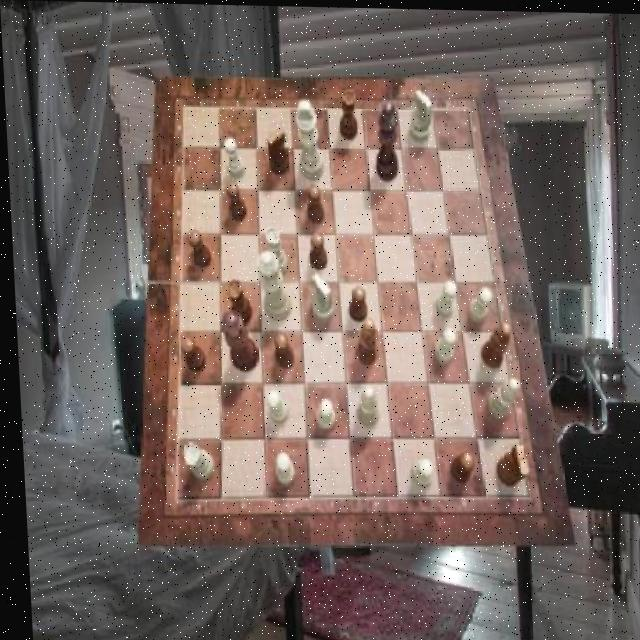bishop: (477, 321, 510, 367), (351, 317, 374, 365)
black-bishop: (371, 97, 399, 179)
black-king: (490, 442, 525, 485), (263, 128, 288, 176)
black-knight: (186, 229, 211, 267), (445, 449, 471, 483), (177, 335, 202, 370), (224, 181, 245, 219), (270, 330, 291, 367), (304, 183, 323, 222), (306, 231, 325, 267), (344, 285, 364, 319)
black-pawn: (217, 311, 256, 372)
black-queen: (223, 278, 249, 324), (337, 87, 357, 139)
black-rook: (482, 376, 517, 419), (352, 384, 377, 426)
white-bishop: (295, 99, 324, 180)
white-king: (408, 88, 434, 141), (308, 273, 332, 321)
white-knight: (430, 326, 455, 364), (431, 278, 456, 316), (465, 285, 491, 320), (222, 138, 244, 179), (262, 389, 286, 424), (311, 397, 333, 430), (271, 450, 291, 485), (407, 458, 429, 485)
white-pawn: (254, 249, 290, 320)
white-queen: (178, 442, 210, 480), (262, 225, 285, 273)
